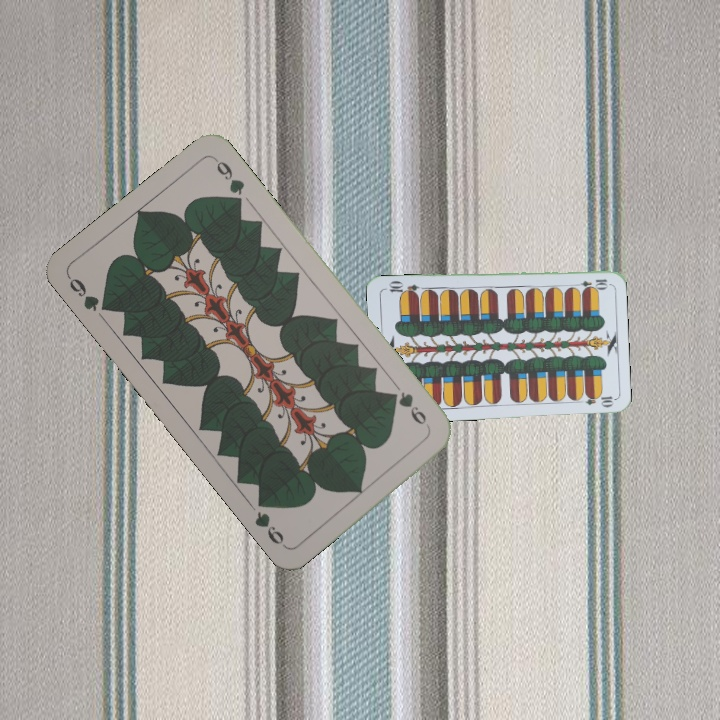E10: (569, 275, 610, 290)
G9: (64, 272, 115, 315), (385, 387, 433, 432)
